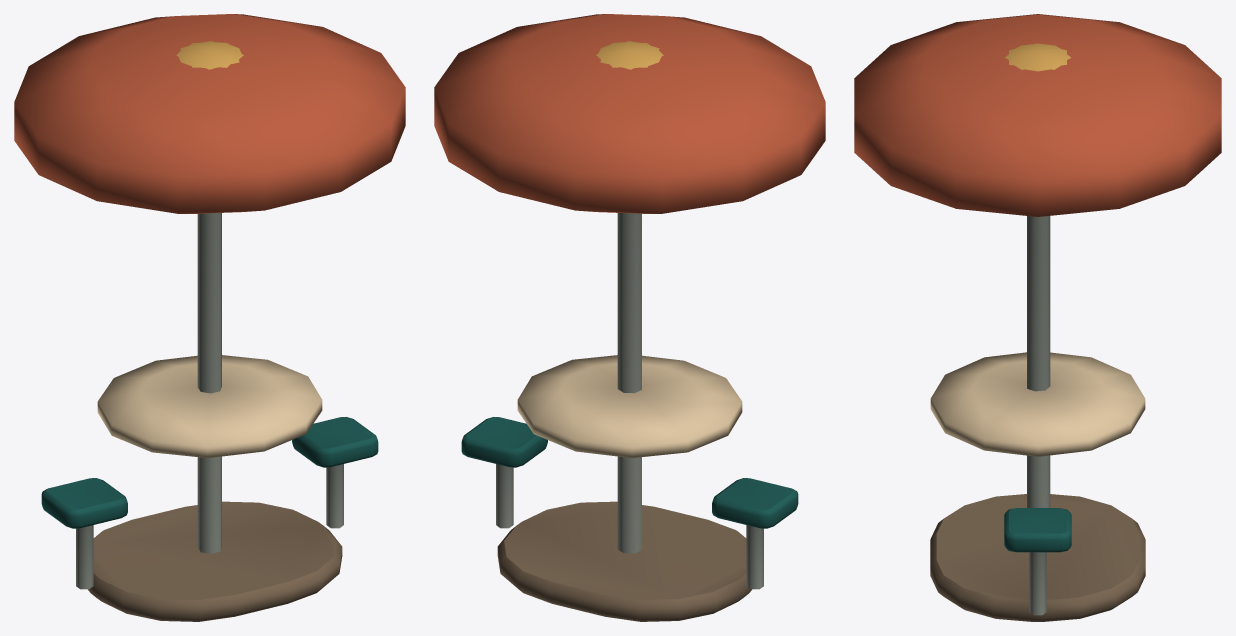
The model's file is event_summer.glb.
3 renders of one model, left to right at view 1: azimuth 30°, elevation 25°; view 2: azimuth 150°, elevation 25°; view 3: azimuth 270°, elevation 25°, orthographic.
Parts seen in each view (by area): view 1: EventSummer; view 2: EventSummer; view 3: EventSummer.
Part boxes in pixels (bbox=[...]): EventSummer: bbox=[14, 14, 405, 621]; EventSummer: bbox=[434, 14, 825, 621]; EventSummer: bbox=[854, 14, 1221, 621].
Bounding box in the file's own units: 1.56 × 2.27 × 1.46.
